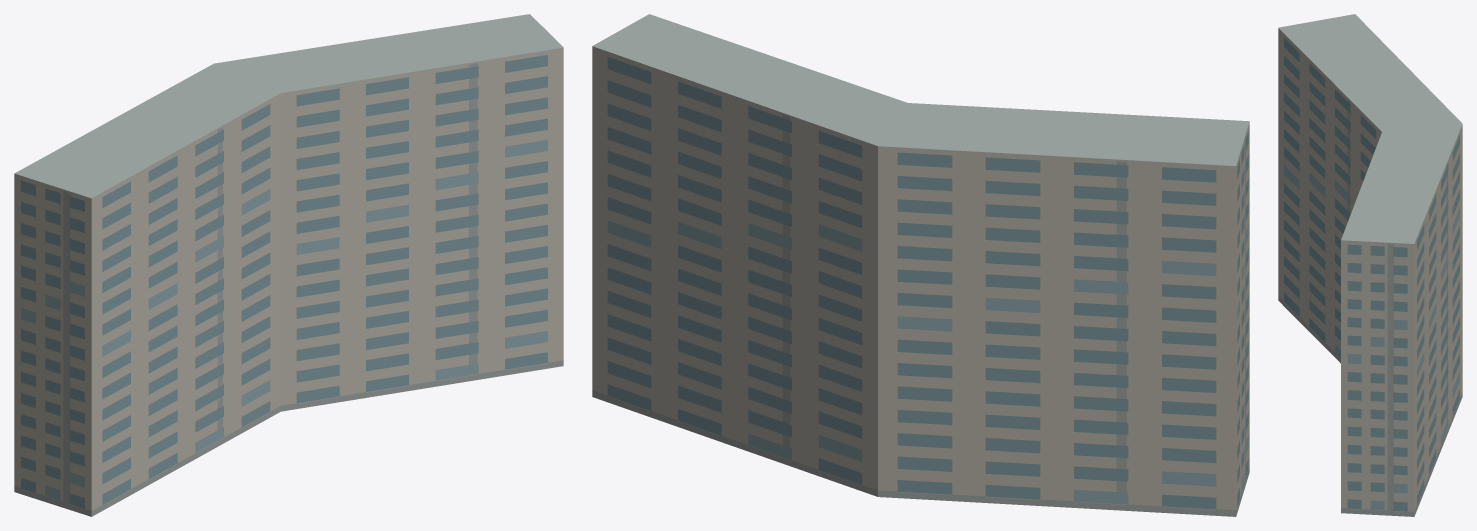
File: residential-7c3b1cfb-e6c8-4fd5-917c-98da8e292d90.glb
3 renders of one model, left to right at view 1: azimuth 30°, elevation 25°; view 2: azimuth 150°, elevation 25°; view 3: azimuth 270°, elevation 25°, orthographic. The views are drawn at different scales.
Parts seen in each view (by area): view 1: residential-7c3b1cfb-e6c8-4fd5-917c-98da8e292d90.tmp; view 2: residential-7c3b1cfb-e6c8-4fd5-917c-98da8e292d90.tmp; view 3: residential-7c3b1cfb-e6c8-4fd5-917c-98da8e292d90.tmp.
Boxes of the visible parts, <box> form: residential-7c3b1cfb-e6c8-4fd5-917c-98da8e292d90.tmp: <box>14,14,563,516</box>; residential-7c3b1cfb-e6c8-4fd5-917c-98da8e292d90.tmp: <box>592,14,1249,516</box>; residential-7c3b1cfb-e6c8-4fd5-917c-98da8e292d90.tmp: <box>1278,14,1462,516</box>.
Size of the model in its own units: 82.71 by 45.75 by 28.03.
